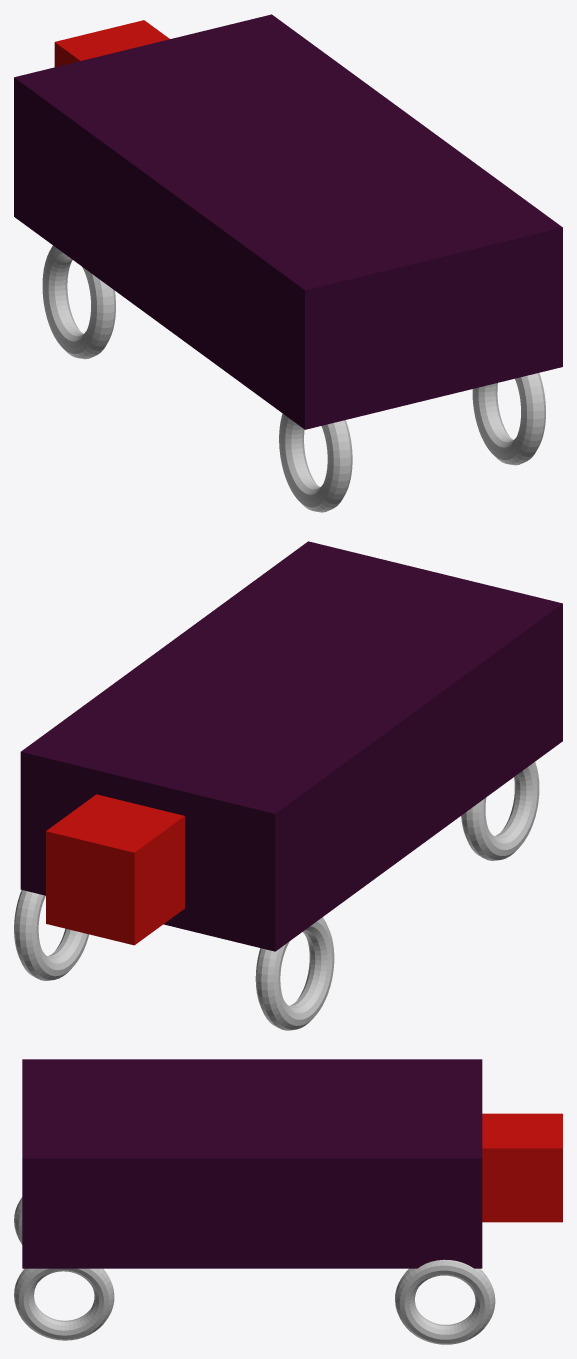
File: car.obj
The picture shows the model from 3 angles, top to bottom: view 1: azimuth 30°, elevation 25°; view 2: azimuth 150°, elevation 25°; view 3: azimuth 270°, elevation 25°; orthographic projection. The views are drawn at different scales.
Parts seen in each view (by area): view 1: Cube_Cube.007, Torus.003_Torus.008, Torus.001_Torus.006, Torus.002_Torus.007, Cube.001_Cube.008; view 2: Cube_Cube.007, Cube.001_Cube.008, Torus.003_Torus.008, Torus.001_Torus.006, Torus.005; view 3: Cube_Cube.007, Cube.001_Cube.008, Torus.005, Torus.002_Torus.007.
Boxes of the visible parts, x1,y1,x2,y2 form: Cube_Cube.007: (14, 14, 562, 429); Torus.003_Torus.008: (42, 245, 115, 359); Torus.001_Torus.006: (279, 413, 352, 512); Torus.002_Torus.007: (472, 373, 545, 465); Cube.001_Cube.008: (54, 20, 169, 67); Cube_Cube.007: (20, 541, 562, 951); Cube.001_Cube.008: (46, 794, 184, 945); Torus.003_Torus.008: (255, 917, 334, 1030); Torus.001_Torus.006: (461, 762, 539, 860); Torus.005: (14, 890, 89, 980); Cube_Cube.007: (22, 1059, 482, 1268); Cube.001_Cube.008: (482, 1113, 562, 1222); Torus.005: (395, 1259, 495, 1344); Torus.002_Torus.007: (14, 1268, 114, 1340).
Bounding box in the file's own units: 3.96 × 3.59 × 9.03.
